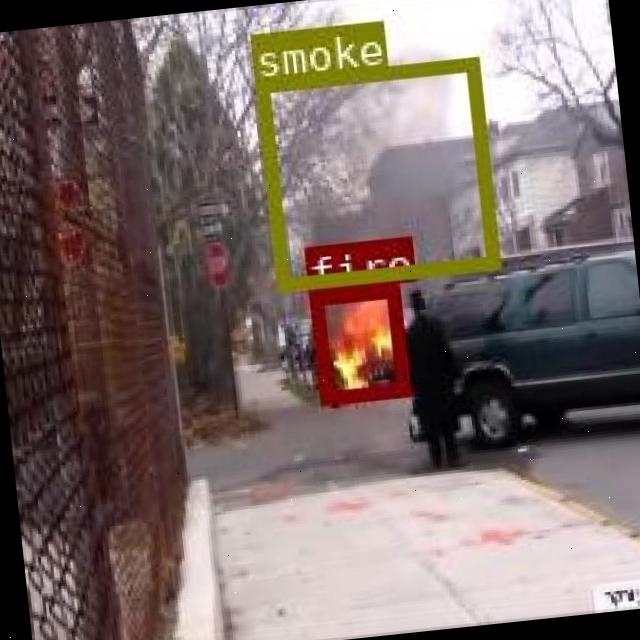fire: (307, 282, 406, 404)
smoke: (252, 56, 498, 290)
